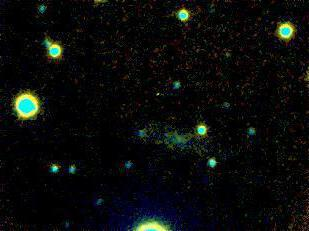star: (143, 77, 173, 107)
